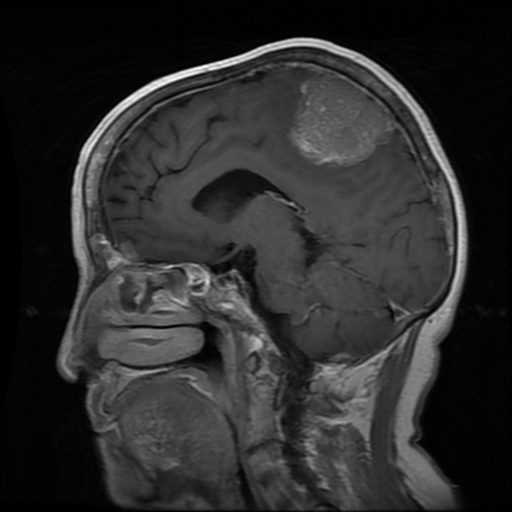meningioma: (287, 74, 390, 168)
